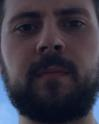without_mask: (1, 2, 99, 124)
